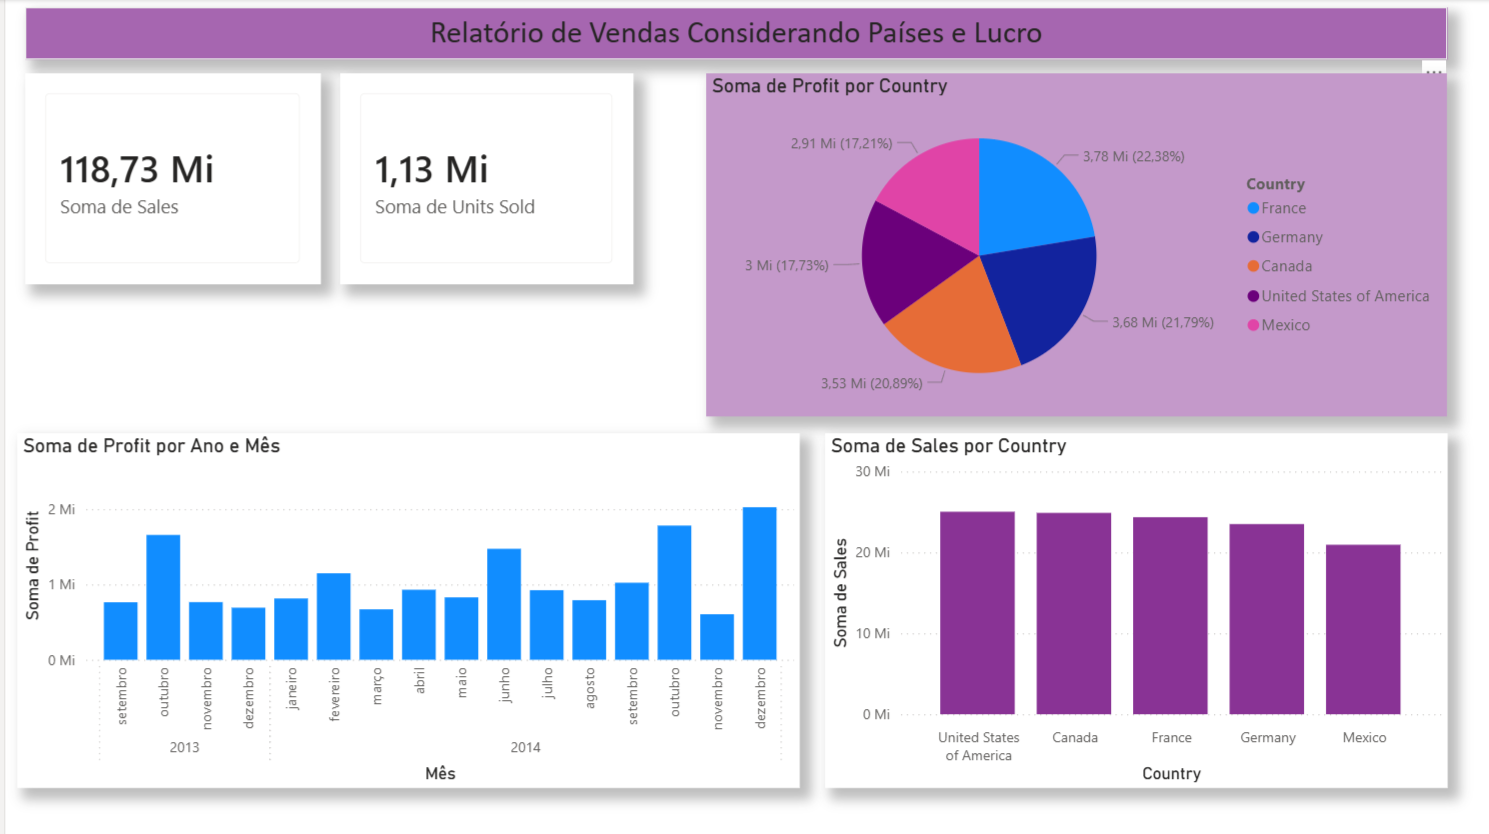

Layout of this report page (visuals, bound fields, positions):
{"tool":"powerbi","page":{"name":"Vendas Países","canvas":[1280,720],"ordinal":1},"visuals":[{"type":"textbox","box":[17.5,6.8,1226.5,44.7],"z":0},{"type":"cardVisual","fields":{"Data":["Sum(financials. Sales)"]},"box":[17.5,64.2,254.8,181.9],"z":1000},{"type":"cardVisual","fields":{"Data":["Sum(financials.Units Sold)"]},"box":[288.9,64.2,252.9,181.9],"z":2000},{"type":"pieChart","fields":{"Y":["Sum(financials.Profit)"],"Category":["financials.Country"]},"box":[605,64.2,639,295.7],"z":3000},{"type":"clusteredColumnChart","fields":{"Y":["Sum(financials.Profit)"],"Category":["financials.Date.Variation.Hierarquia de datas.Ano","financials.Date.Variation.Hierarquia de datas.Mês"]},"box":[10.7,374.5,675,306.4],"z":4000},{"type":"clusteredColumnChart","fields":{"Y":["Sum(financials. Sales)"],"Category":["financials.Country"]},"box":[707.1,374.5,536.9,306.4],"z":5000}]}

Visuals, with their boxes in screenshot pixels (x1, y1, x2, y2), scaled from the page's 1280x720 canvas onto the 1489x834 screenshot:
textbox: box(20, 8, 1447, 60)
cardVisual - Sum(financials. Sales): box(20, 74, 317, 285)
cardVisual - Sum(financials.Units Sold): box(336, 74, 630, 285)
pieChart - Sum(financials.Profit) x financials.Country: box(704, 74, 1447, 417)
clusteredColumnChart - Sum(financials.Profit) x financials.Date.Variation.Hierarquia de datas.Ano: box(12, 434, 798, 789)
clusteredColumnChart - Sum(financials. Sales) x financials.Country: box(823, 434, 1447, 789)
